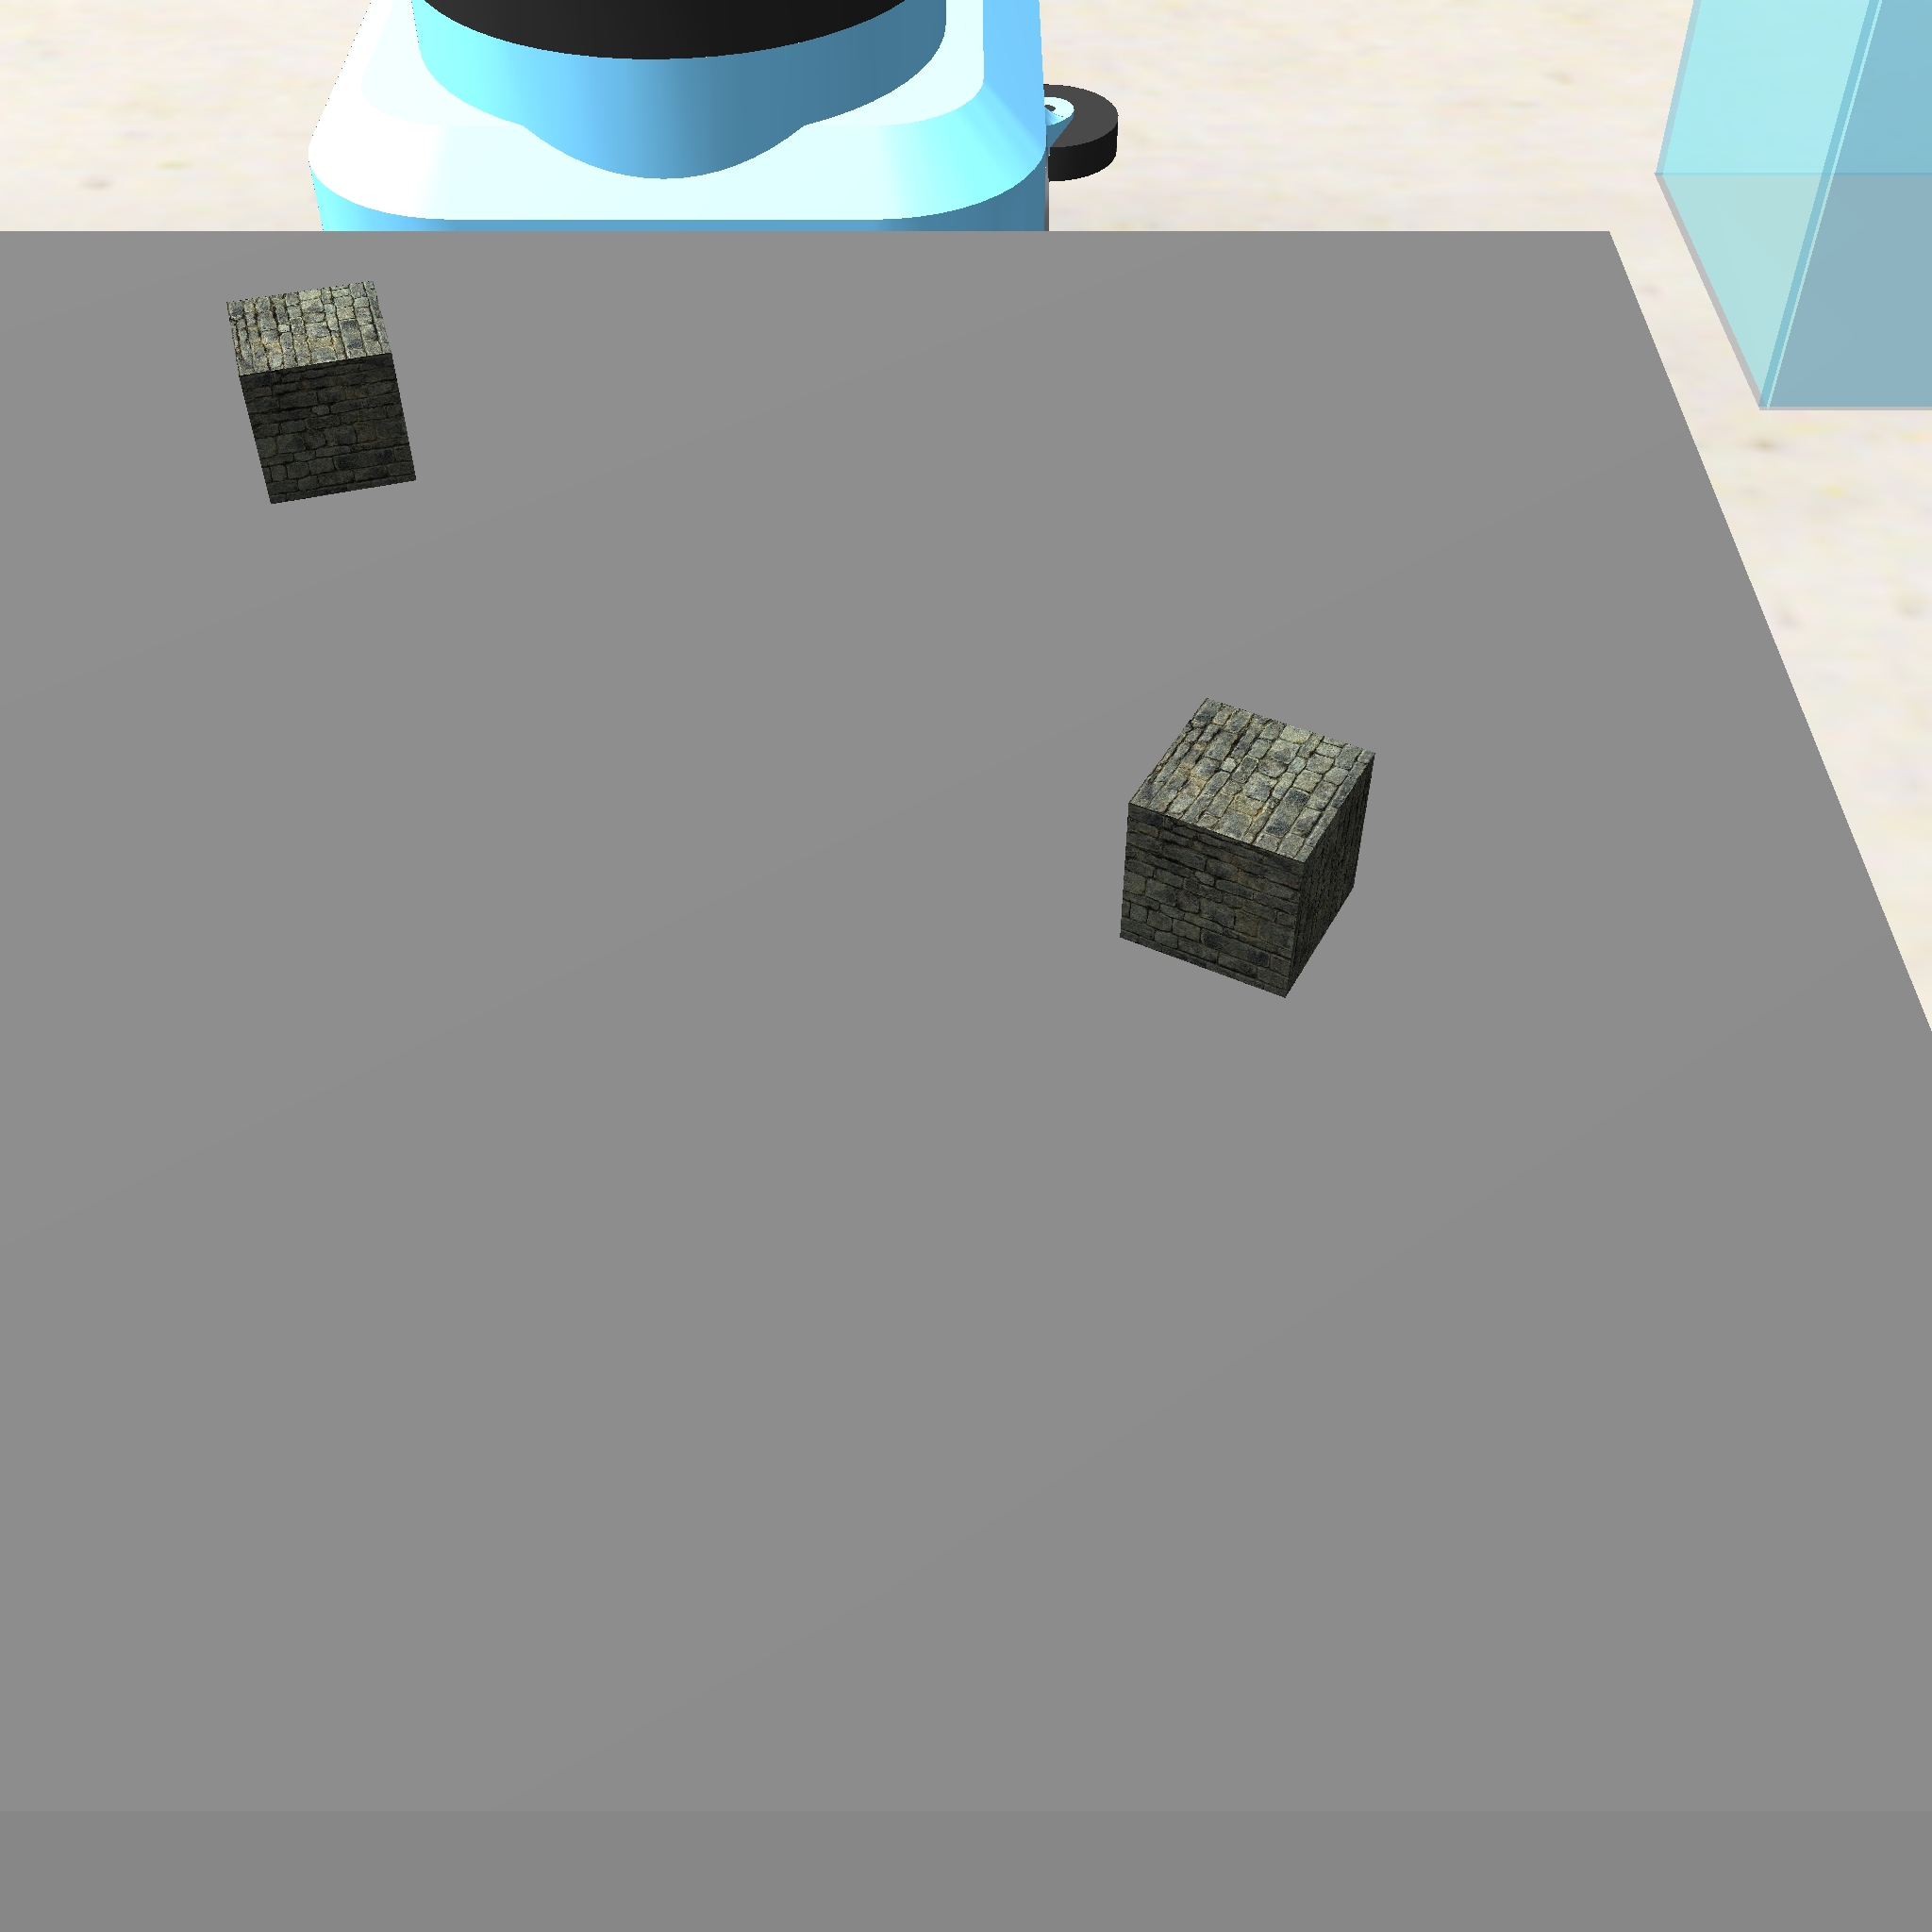cube: (1111, 688, 1382, 1008), (219, 278, 435, 515)
